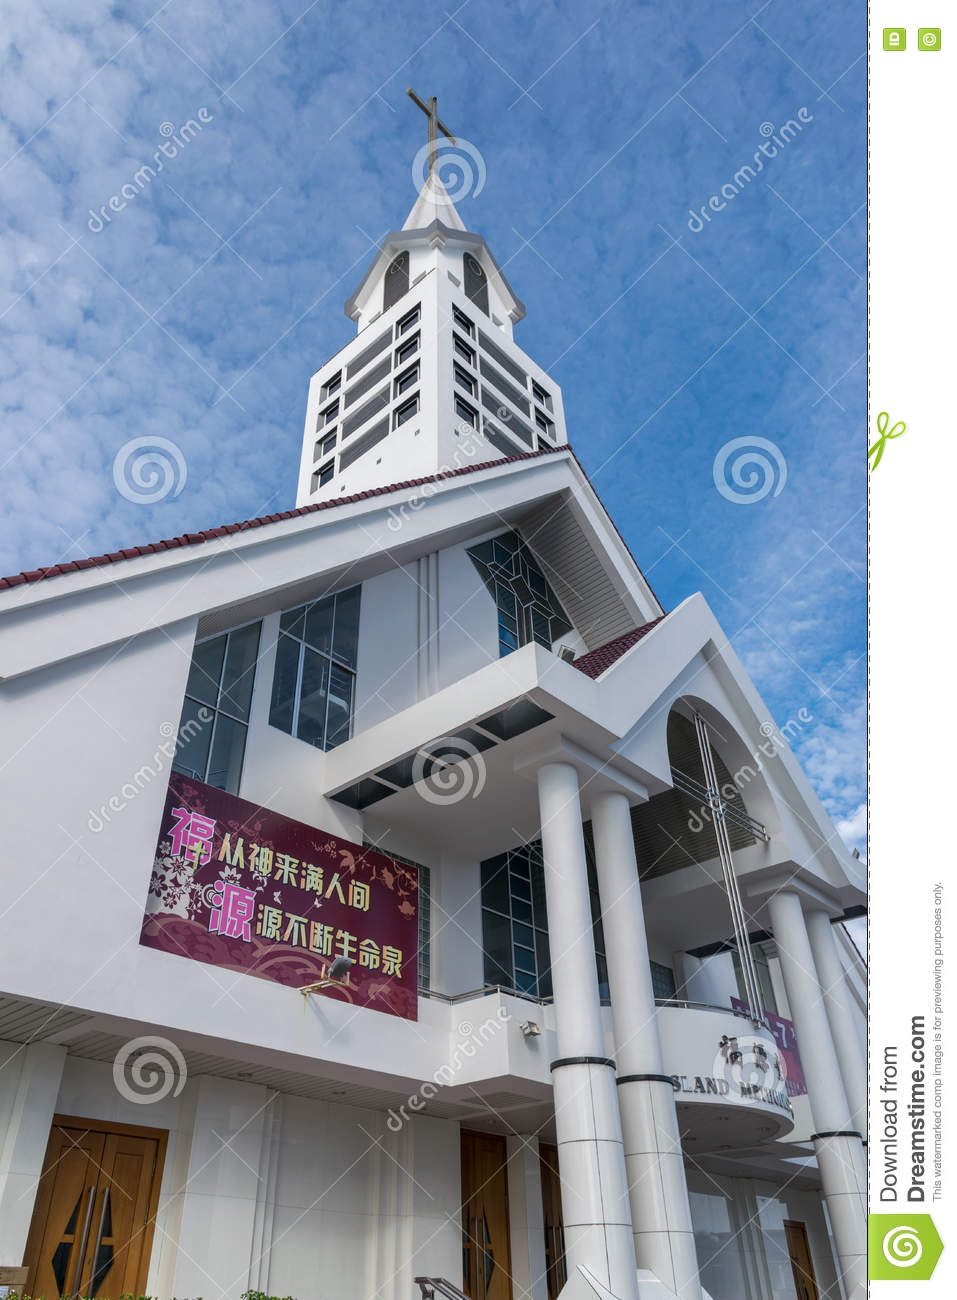Church: (20, 80, 848, 1280)
